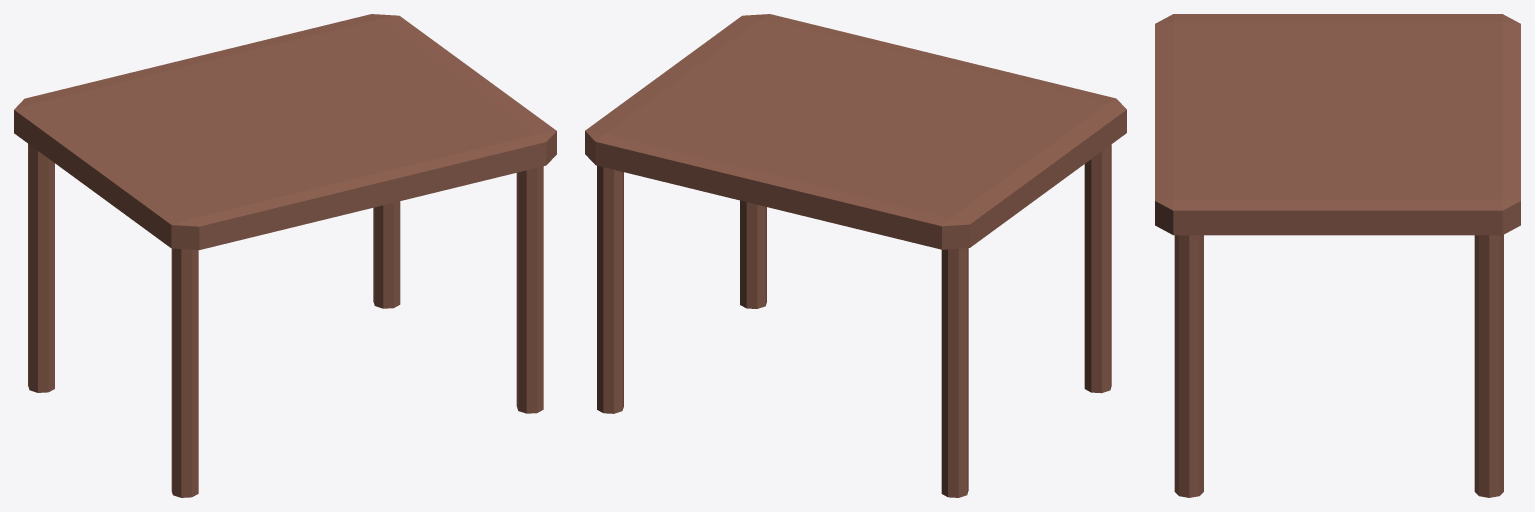
The model's file is Tafel2.fbx.
3 views of the same model, side by side, from view 1: azimuth 30°, elevation 25°; view 2: azimuth 150°, elevation 25°; view 3: azimuth 270°, elevation 25° (orthographic). The views are drawn at different scales.
Visible parts, largest first — view 1: Kubus, Cylinder.001, Cylinder.004, Cylinder.002, Cylinder.003; view 2: Kubus, Cylinder.002, Cylinder.001, Cylinder.003, Cylinder.004; view 3: Kubus, Cylinder.003, Cylinder.004.
Part boxes in pixels (x1,y1,x2,y2): Kubus: (14,14,556,250); Cylinder.001: (171,248,198,497); Cylinder.004: (516,166,543,413); Cylinder.002: (28,144,54,392); Cylinder.003: (373,201,400,308); Kubus: (585,14,1126,249); Cylinder.002: (941,248,968,497); Cylinder.001: (1084,144,1111,393); Cylinder.003: (597,165,623,413); Cylinder.004: (740,200,766,308); Kubus: (1155,14,1520,235); Cylinder.003: (1474,235,1503,497); Cylinder.004: (1174,235,1203,497).
Size of the model in its own units: 636 by 441 by 500.
